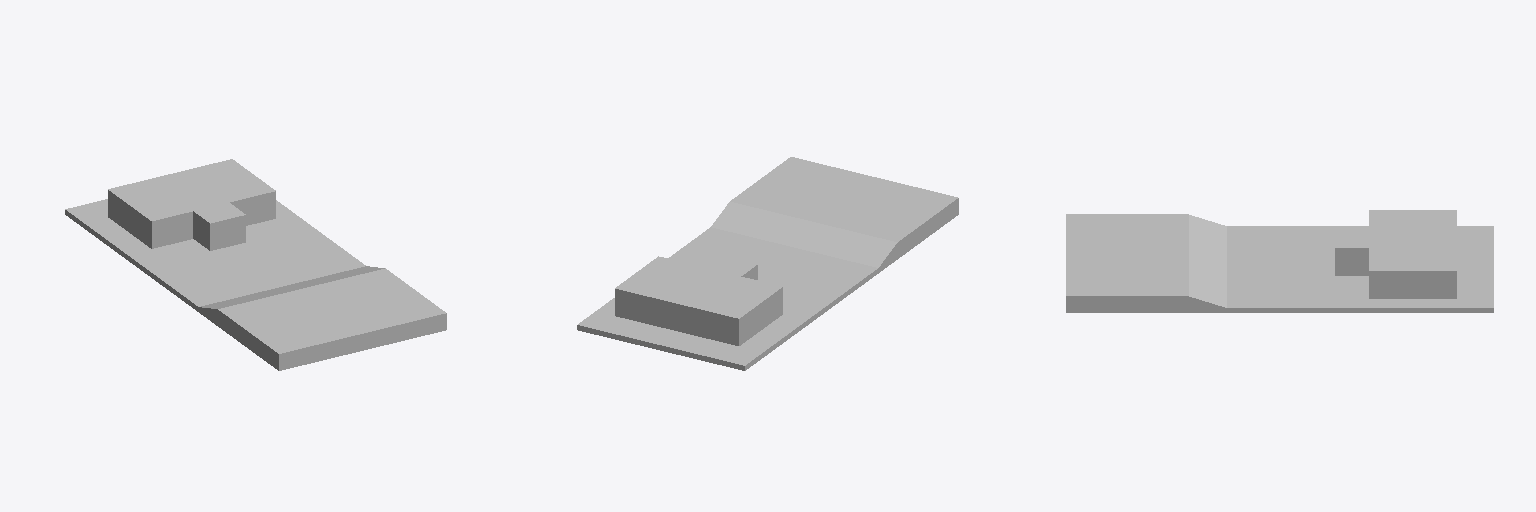
File: schoolandgroun.obj
The picture shows the model from 3 angles: view 1: azimuth 30°, elevation 25°; view 2: azimuth 150°, elevation 25°; view 3: azimuth 270°, elevation 25°; orthographic projection.
Visible parts, largest first — view 1: Cube.001; view 2: Cube.001; view 3: Cube.001.
Boxes of the visible parts, <box> form: Cube.001: <box>65,159,446,370</box>; Cube.001: <box>577,157,958,370</box>; Cube.001: <box>1066,210,1493,312</box>.
Bounding box in the file's own units: 71.38 × 13.38 × 157.